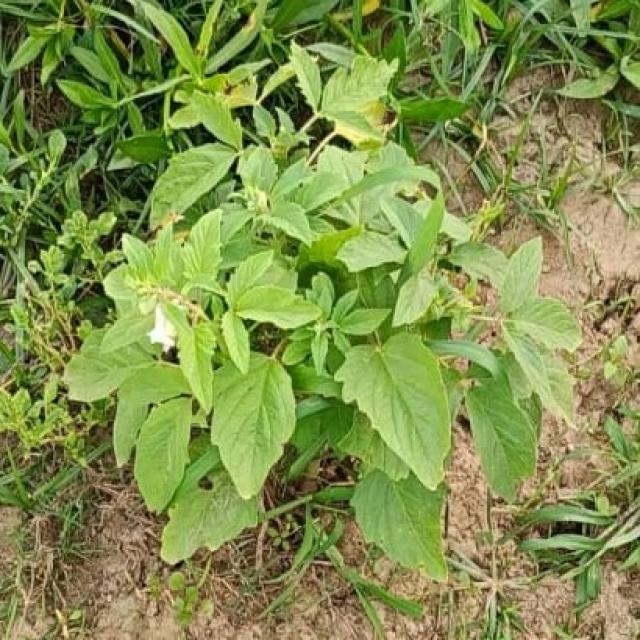plant: (64, 43, 581, 578)
